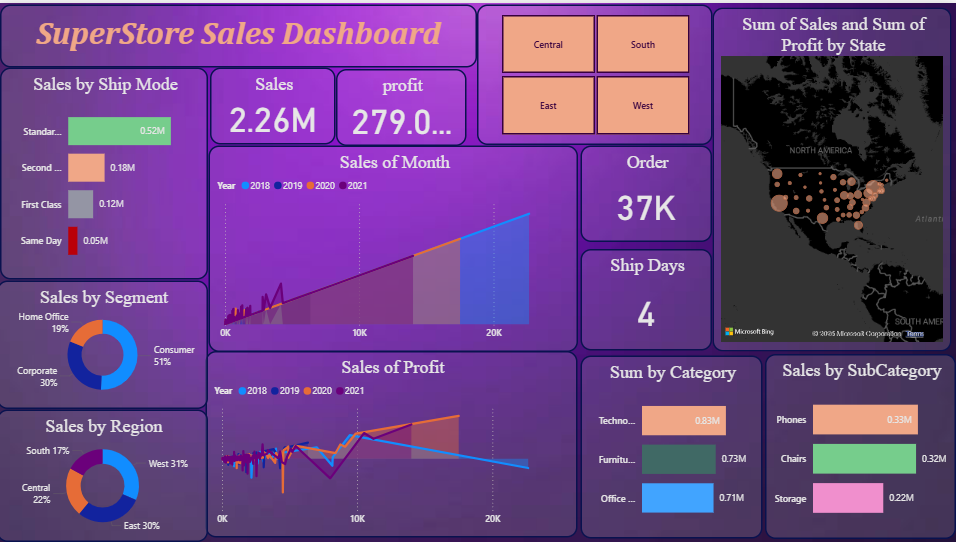

The page's visual inventory and layout, read from the dashboard file:
{"tool":"powerbi","page":{"name":"Dashboard","canvas":[1280,720],"ordinal":0},"visuals":[{"type":"clusteredBarChart","title":"Sum by Category","fields":{"Category":["Orders.Category"],"Y":["Sum(Orders.Sales)"]},"box":[777.8,469.9,242.9,244.2],"z":0},{"type":"clusteredBarChart","title":"Sales by SubCategory","fields":{"Category":["Orders.Sub-Category"],"Y":["Sum(Orders.Sales)"]},"box":[1024.7,467.2,254.8,246.9],"z":1000},{"type":"clusteredBarChart","title":"Sales by Ship Mode","fields":{"Category":["Orders.Ship Mode"],"Y":["Sum(Orders.Sales)"]},"box":[4.3,85.7,277.1,282.9],"z":2000},{"type":"stackedAreaChart","title":"Sales of Month ","fields":{"Category":["Orders.Sales"],"Y":["Sum(Orders.Sales)"],"Series":["Orders.Order Date.Variation.Date Hierarchy.Year"]},"box":[281.5,189.3,492.7,275.3],"z":3000},{"type":"areaChart","title":"Sales of Profit","fields":{"Category":["Orders.Sales"],"Y":["Sum(Orders.Profit)"],"Series":["Orders.Order Date.Variation.Date Hierarchy.Year"]},"box":[278.4,464.6,495.8,248.7],"z":4000},{"type":"map","fields":{"Category":["Orders.State"],"Size":["Sum(Orders.Sales)"]},"box":[954.3,5.7,318.6,458.6],"z":5000},{"type":"donutChart","title":"Sales by Segment","fields":{"Category":["Orders.Segment"],"Y":["Sum(Orders.Sales)"]},"box":[0,369,281.4,171.2],"z":6000},{"type":"donutChart","title":"Sales by Region","fields":{"Category":["Orders.Region"],"Y":["Sum(Orders.Sales)"]},"box":[0,542.9,281.4,176.5],"z":7000},{"type":"slicer","fields":{"Values":["Orders.Region"]},"box":[640,1.4,314.3,187.1],"z":8000},{"type":"textbox","box":[4.3,1.4,635.7,84.3],"z":9000},{"type":"card","title":"Sales","fields":{"Values":["Sum(Orders.Sales)"]},"box":[284.3,85.7,167.1,102.9],"z":10000},{"type":"card","title":"profit","fields":{"Values":["Sum(Orders.Profit)"]},"box":[451.4,87.1,174.3,102.9],"z":11000},{"type":"card","title":"Order","fields":{"Values":["Sum(Orders.Quantity)"]},"box":[778.8,190,175,128.8],"z":12000},{"type":"card","title":"Ship Days","fields":{"Values":["Avg(Orders.AvgDelivery)"]},"box":[778.8,328.8,175,135],"z":13000}]}

Visuals, with their boxes in screenshot pixels (x1, y1, x2, y2), scaled from the page's 1280x720 canvas onto the 956x542 screenshot:
"Sum by Category" clusteredBarChart: (581,354,762,538)
"Sales by SubCategory" clusteredBarChart: (765,352,955,538)
"Sales by Ship Mode" clusteredBarChart: (3,65,210,277)
"Sales of Month " stackedAreaChart: (210,143,578,350)
"Sales of Profit" areaChart: (208,350,578,537)
map - Orders.State x Sum(Orders.Sales): (713,4,951,350)
"Sales by Segment" donutChart: (0,278,210,407)
"Sales by Region" donutChart: (0,409,210,541)
slicer - Orders.Region: (478,1,713,142)
textbox: (3,1,478,65)
"Sales" card: (212,65,337,142)
"profit" card: (337,66,467,143)
"Order" card: (582,143,712,240)
"Ship Days" card: (582,248,712,349)
